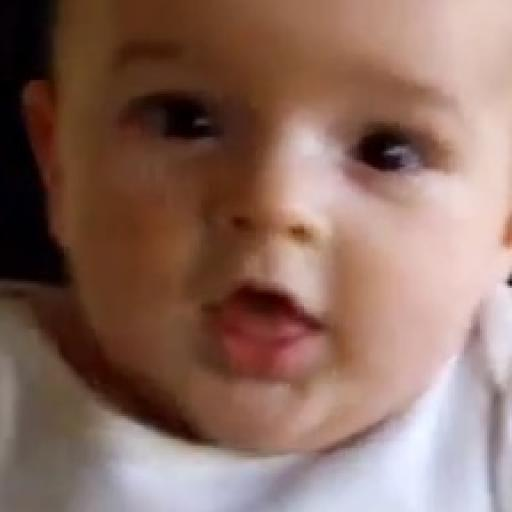Autism: (58, 10, 486, 438)
